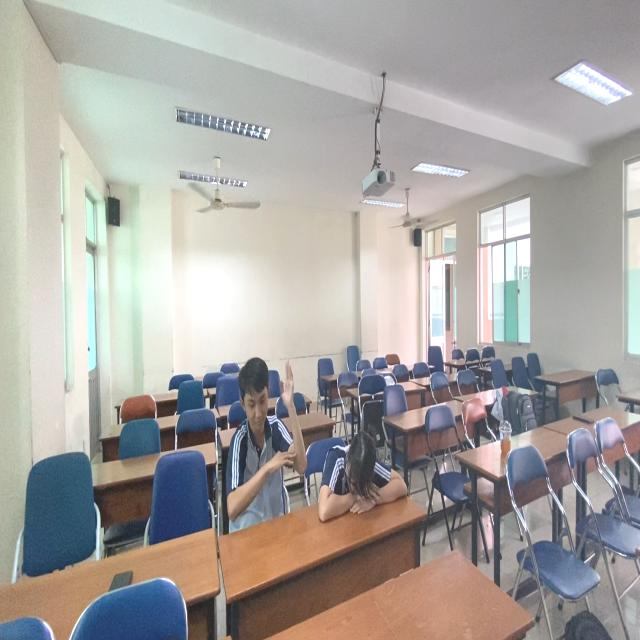raise_hand: (219, 354, 309, 535)
sleep: (314, 426, 411, 530)
